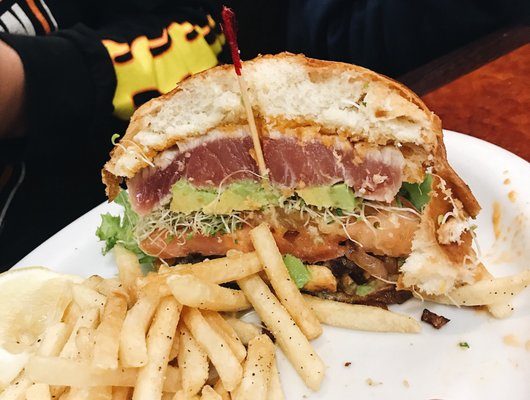soup: (97, 50, 495, 341)
